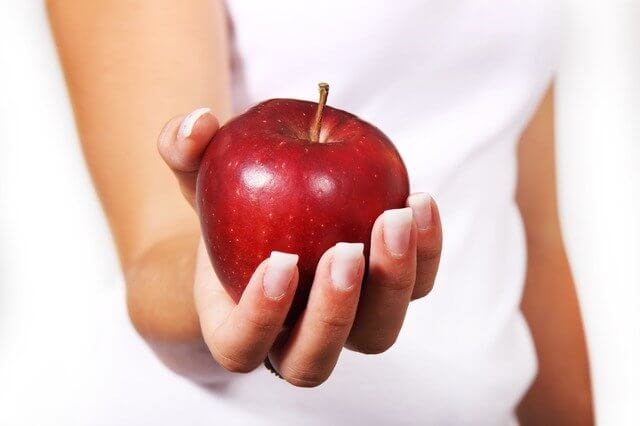apple: (194, 81, 410, 315)
